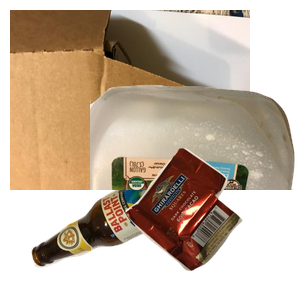cardboard: (10, 10, 250, 190)
glass: (29, 150, 238, 300)
plastic: (90, 82, 300, 262)
trash: (123, 145, 300, 300)
